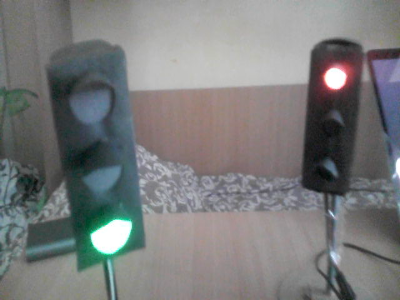trafficlight_green: (51, 53, 146, 256)
trafficlight_red: (300, 46, 364, 188)
